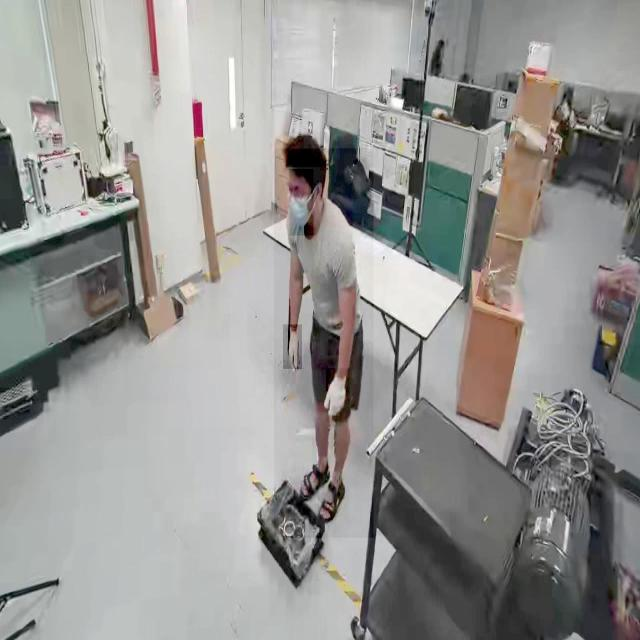face_mask: (290, 169, 314, 235)
hand_glove: (326, 368, 350, 423), (283, 324, 303, 370)
head_nohelmet: (283, 132, 327, 168)
person: (274, 148, 374, 538)
